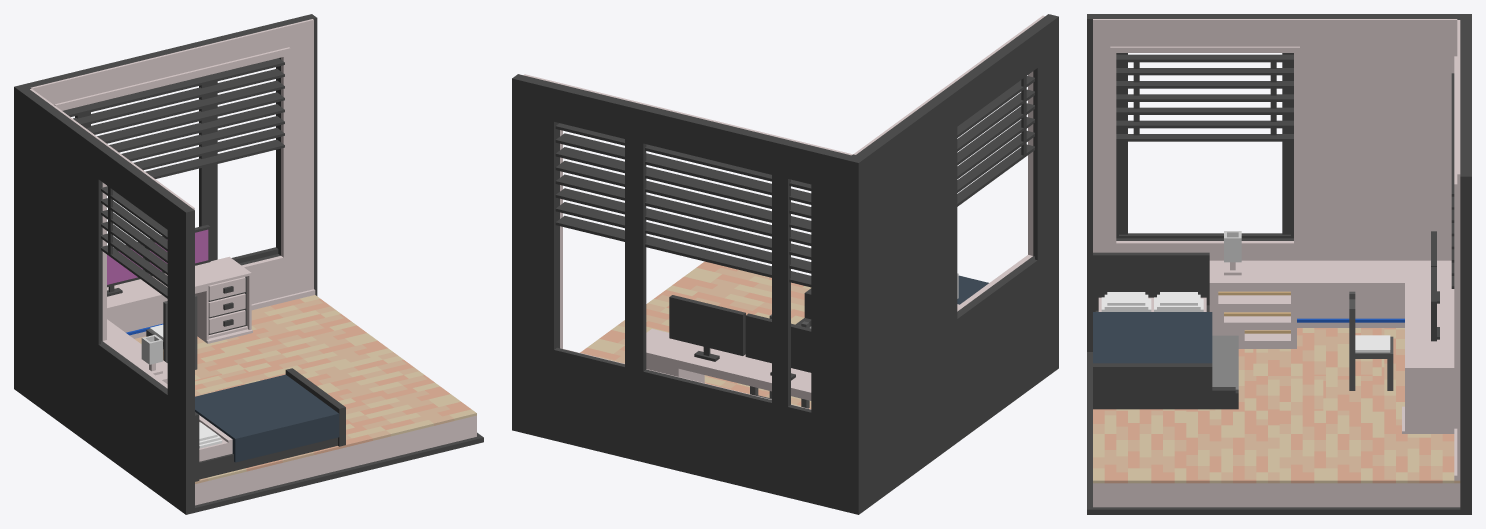
Rendered from Aphrodite-Model.gltf.
3 views of the same model, side by side, from view 1: azimuth 30°, elevation 25°; view 2: azimuth 150°, elevation 25°; view 3: azimuth 270°, elevation 25° (orthographic). The views are drawn at different scales.
Parts seen in each view (by area): view 1: Node; view 2: Node; view 3: Node.
Boxes of the visible parts, x1,y1,x2,y2 form: Node: (14,14,483,514); Node: (512,14,1058,514); Node: (1087,14,1471,514).
Size of the model in its own units: 13.2 by 12.8 by 13.2.
Materials: 1 (1 with a texture image).
